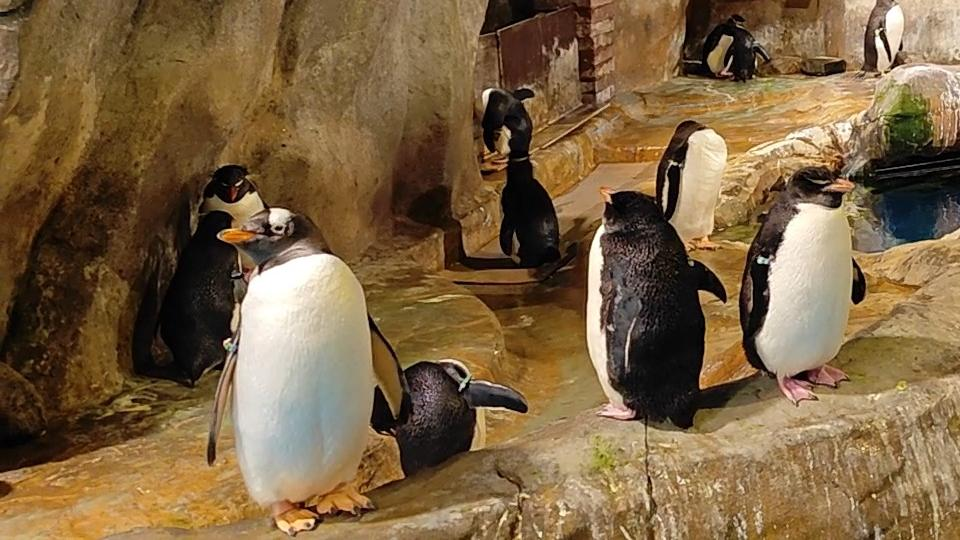Southern Rockhopper Penguin: (574, 181, 737, 439), (733, 159, 876, 407), (380, 351, 544, 477), (179, 154, 270, 279), (486, 150, 572, 282), (474, 81, 544, 173), (716, 23, 772, 84), (701, 11, 742, 71), (951, 64, 960, 210)
